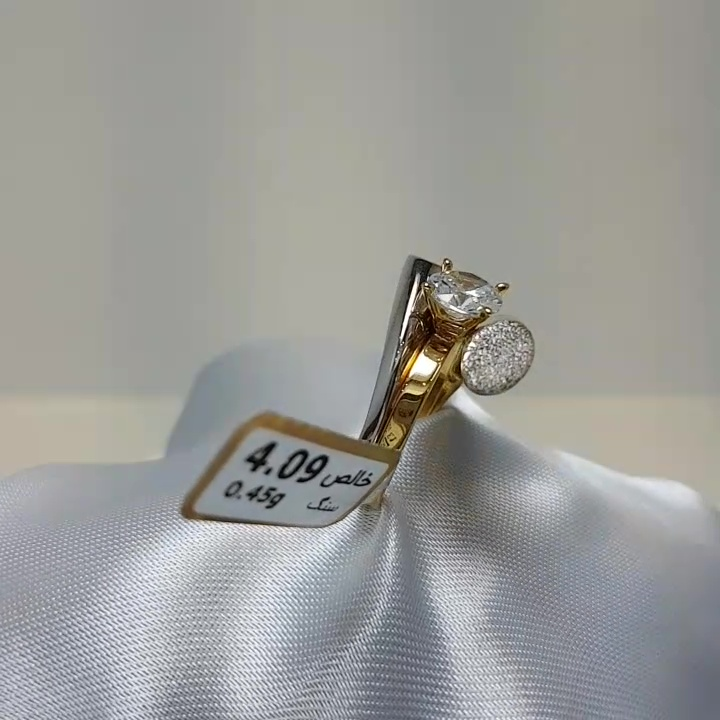Ring 7: (338, 250, 548, 517)
